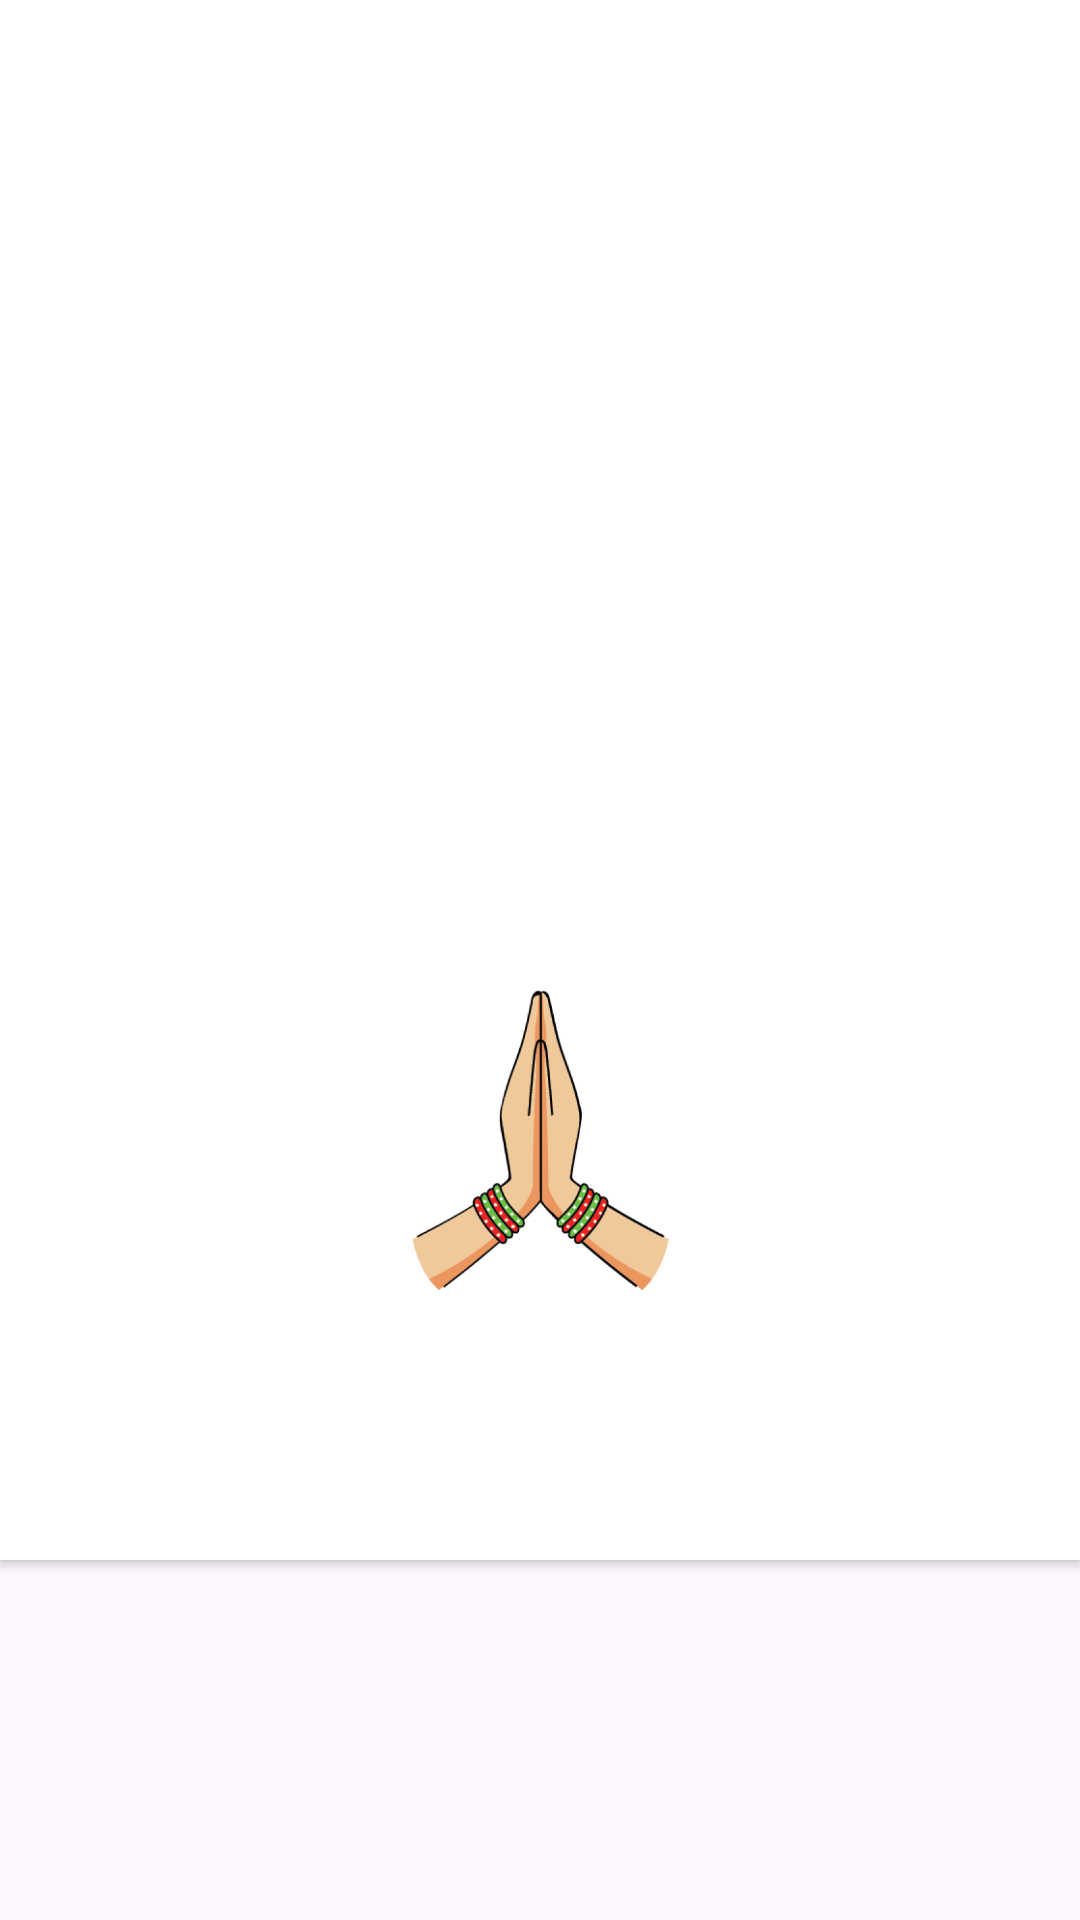

Icon bounding boxes for this 1080x1920 phone screenshot, format (x1, y1, x2, y2):
namaste: (412, 990, 669, 1290)
